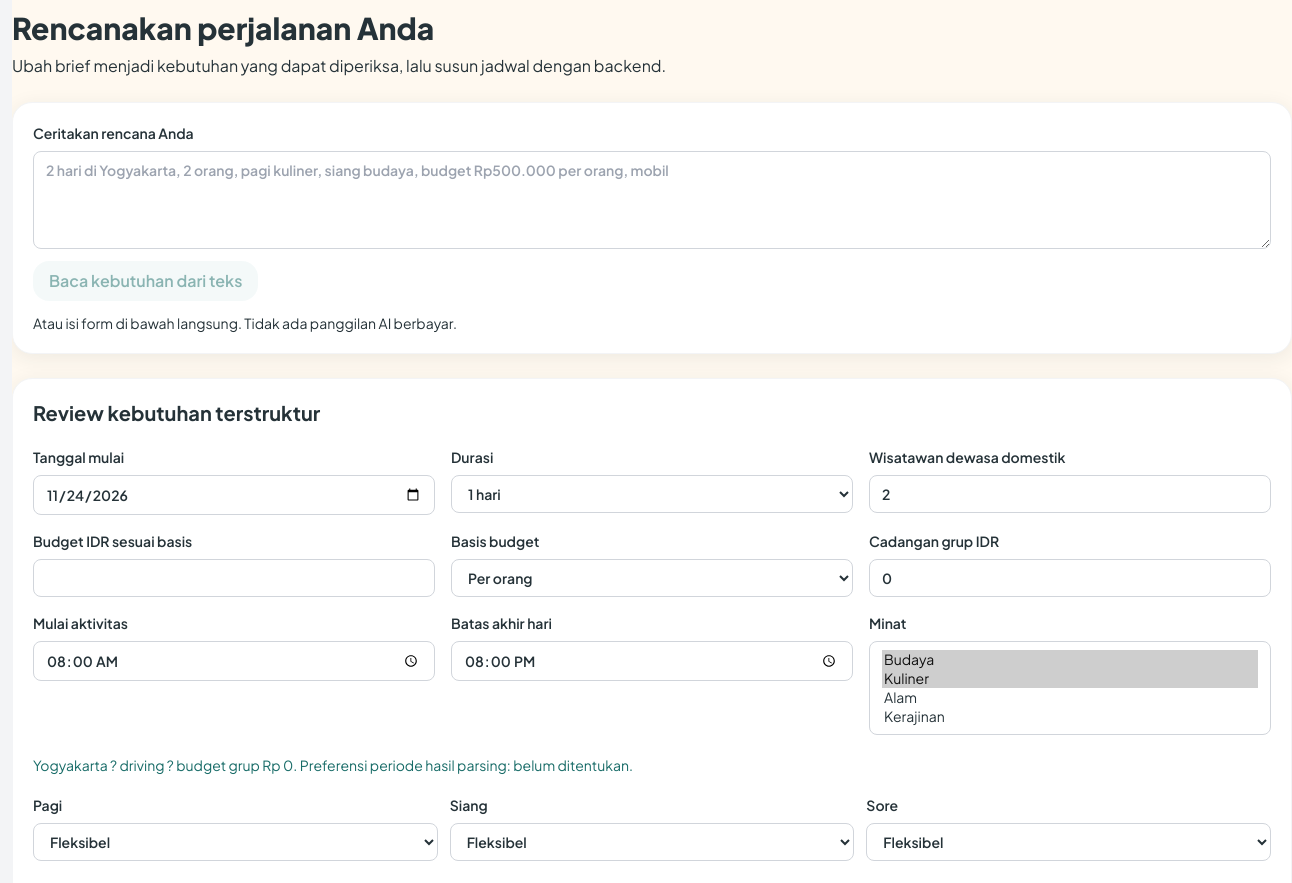
Test case: brief parse is editable and generation requires review
Replace the text in the text box labelled "Ceritakan rencana Anda" with "Yogyakarta 2 hari budget Rp500.000 per orang": (652, 200) [33,151,1271,249]
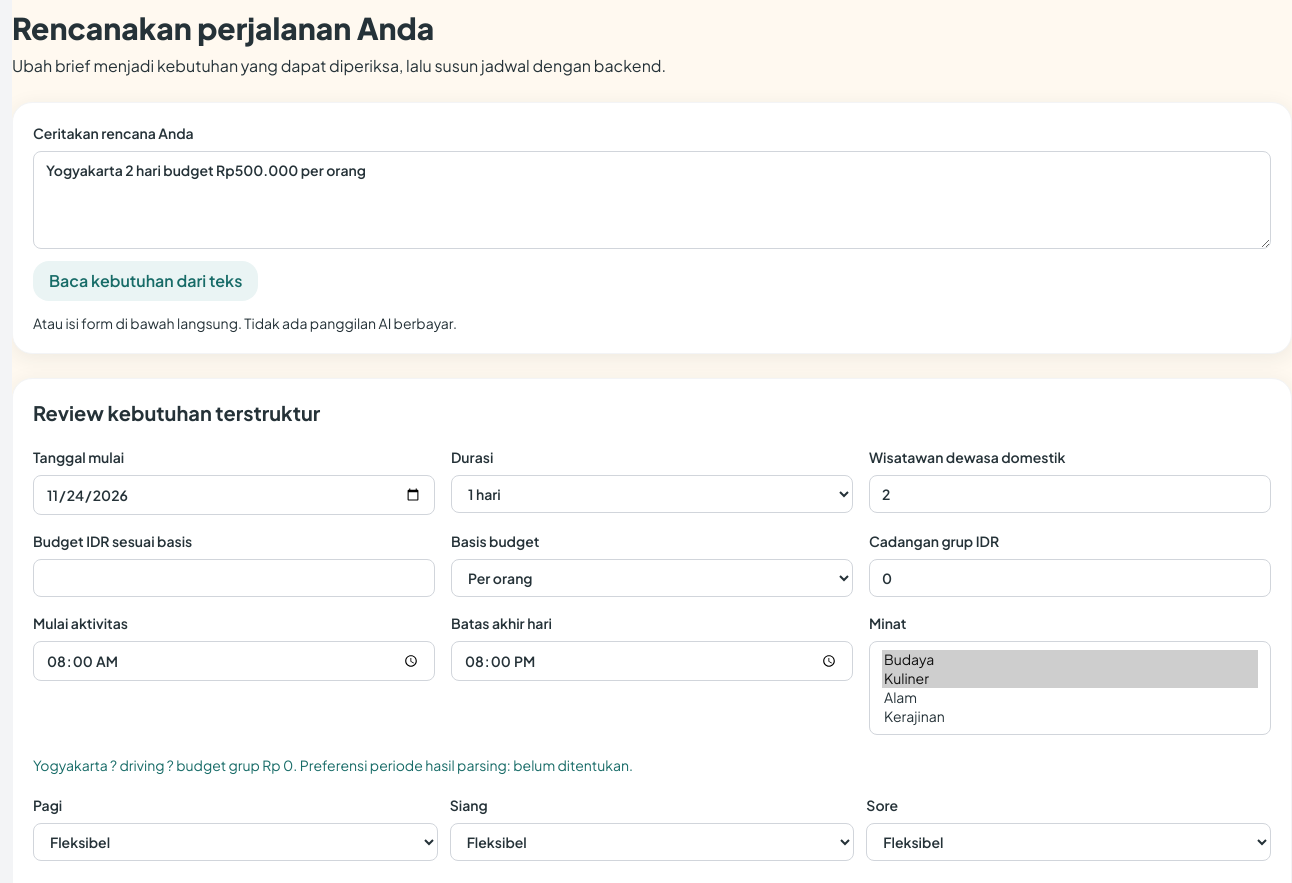
Click the button "Baca kebutuhan dari teks": (146, 281) [33,261,258,301]
(page scrolled)
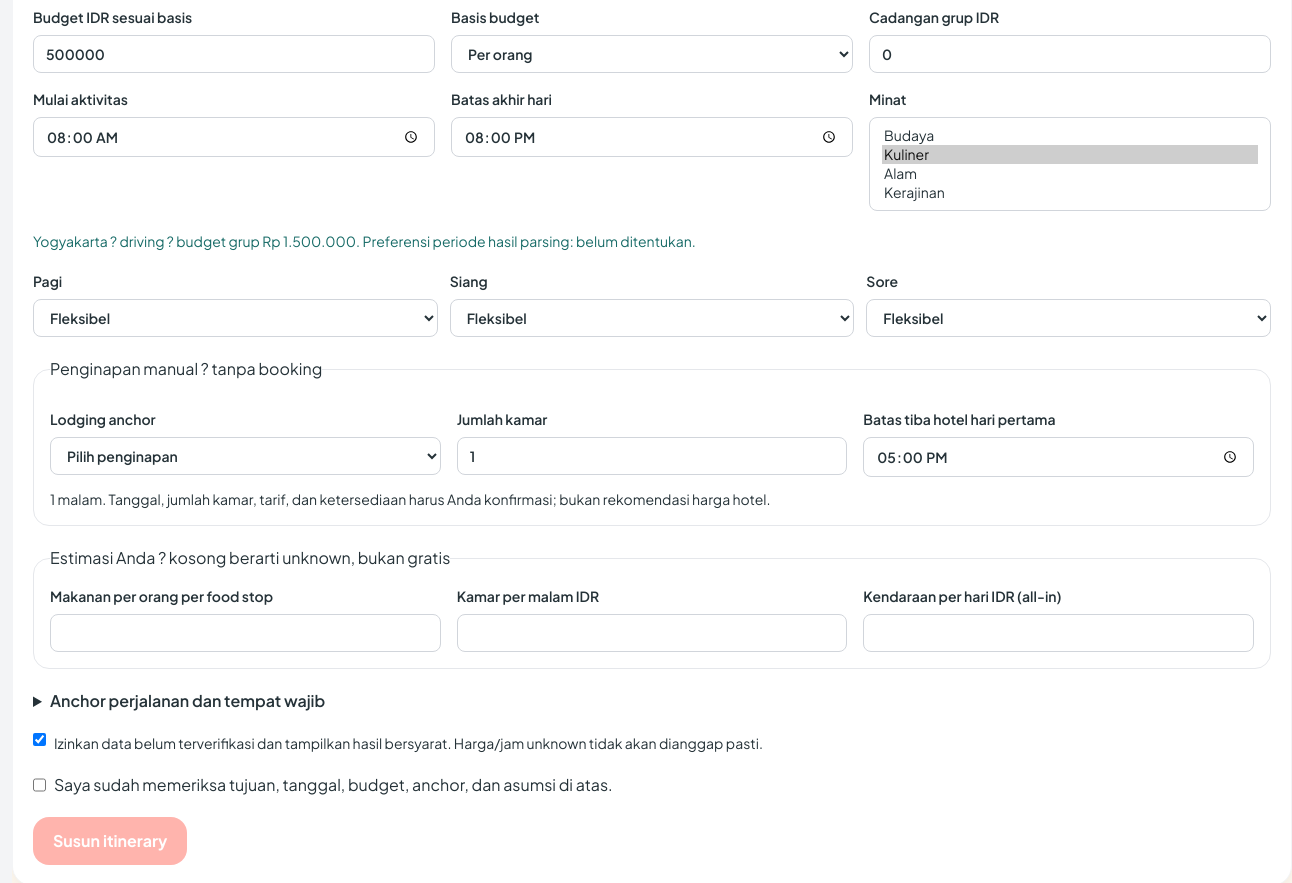
Expected: the button "Susun itinerary" is disabled, [33,817,188,865]
Expected: the text "1.500.000" is shown, [262,232,356,250]
